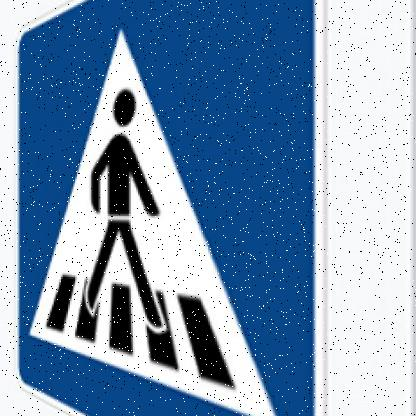Pedestrian Crossing: (13, 1, 328, 416)
